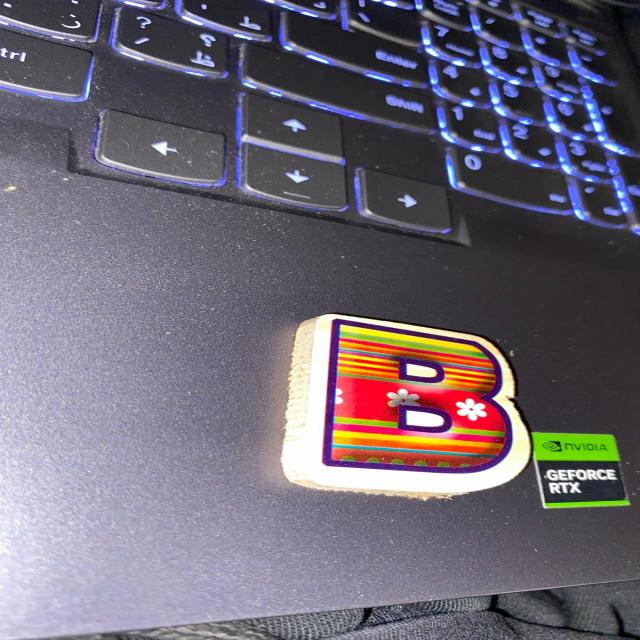B: (282, 314, 531, 497)
